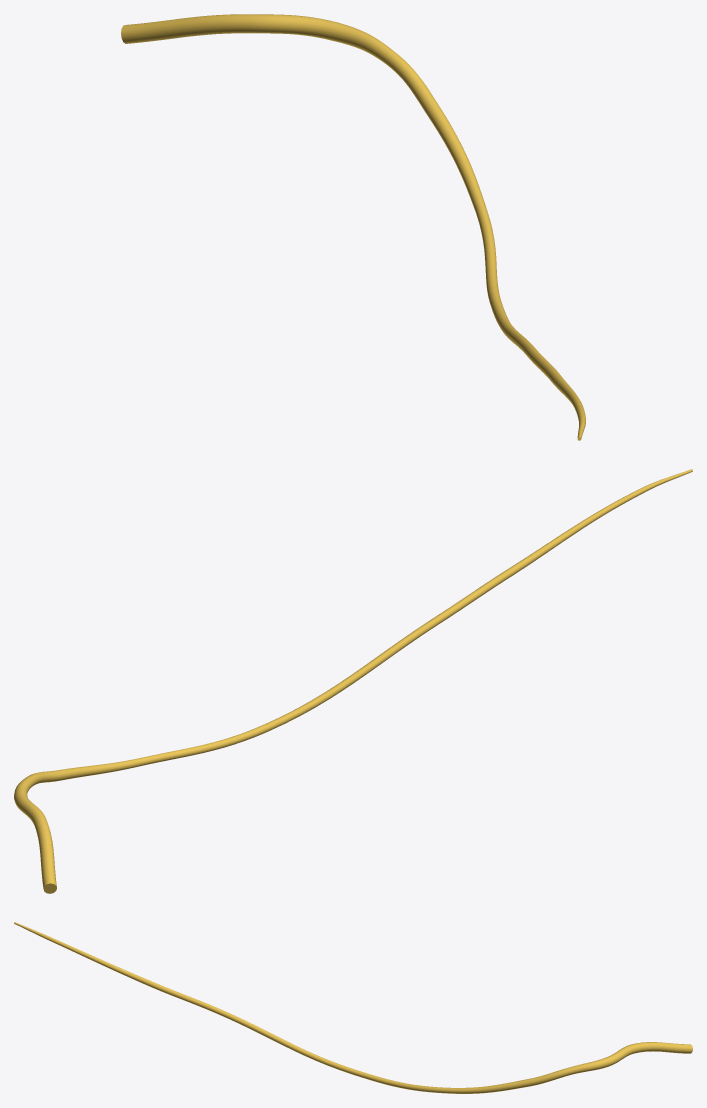
File: Trochlear_nerve_IV_right.glb
3 views of the same model, one above another, from view 1: azimuth 30°, elevation 25°; view 2: azimuth 150°, elevation 25°; view 3: azimuth 270°, elevation 25° (orthographic). The views are drawn at different scales.
Visible parts, largest first — view 1: Trochlear_nerve_(IV).r_BezierCurve.349; view 2: Trochlear_nerve_(IV).r_BezierCurve.349; view 3: Trochlear_nerve_(IV).r_BezierCurve.349.
Boxes of the visible parts, x1,y1,x2,y2 form: Trochlear_nerve_(IV).r_BezierCurve.349: (121,14,585,440); Trochlear_nerve_(IV).r_BezierCurve.349: (14,469,692,893); Trochlear_nerve_(IV).r_BezierCurve.349: (14,922,692,1093).
Bounding box in the file's own units: 0.0228 × 0.0107 × 0.0707.
